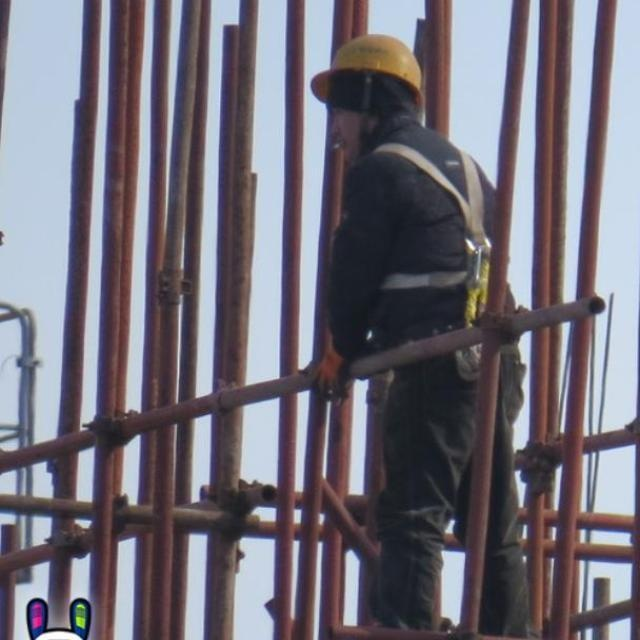Arnes_seguridad: (353, 132, 497, 308)
